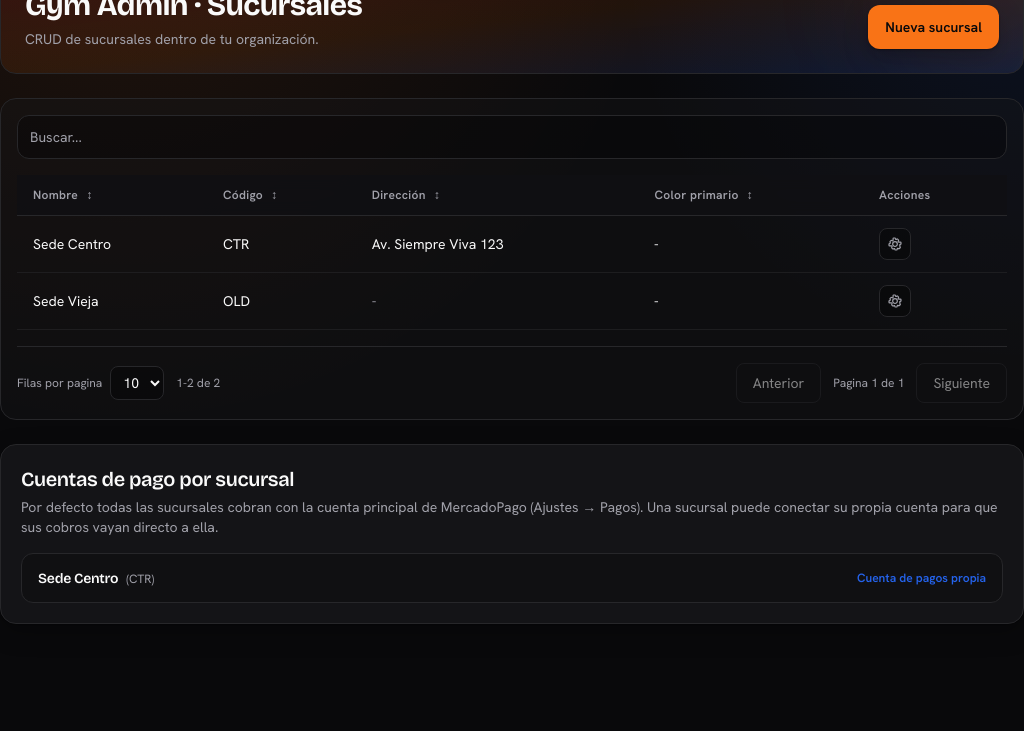
Scenario: GymAdminBranchesPage — cuentas de pago por sucursal › cuenta conectada: muestra la cuenta cobradora y permite desconectar (con confirmación, pasando branch_id)
This screenshot has width=1024, height=731.
Step 1. Click the button "Sede Centro(CTR) Cuenta de pagos propia" → (78, 578), box [22,554,1002,602]
(page scrolled)
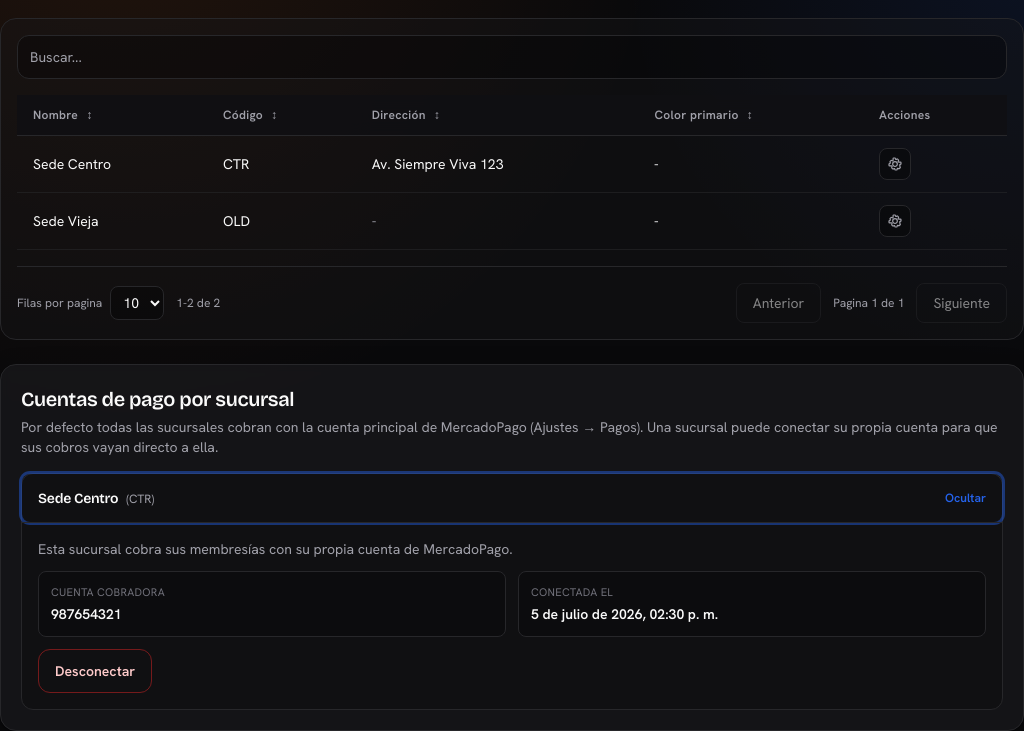
Now the text "987654321" is shown, box [51,605,122,623]
Step 2. Click the button "Desconectar" → (95, 671), box [38,649,152,693]
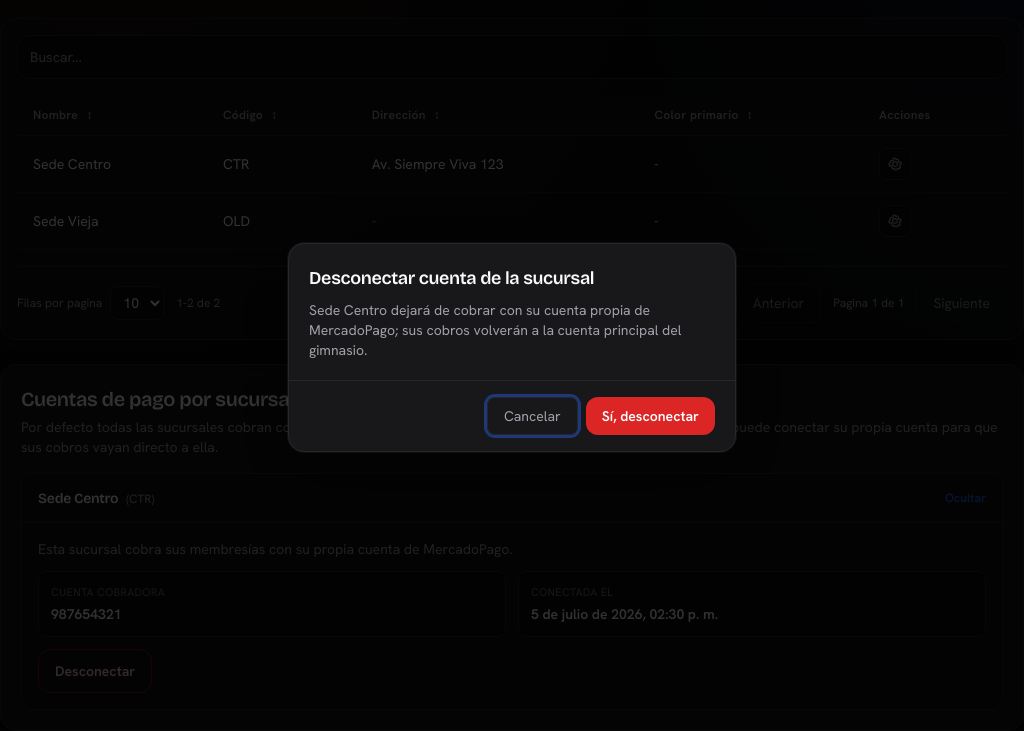
Now the text "dejará de cobrar con su cuenta propia" is shown, box [309,300,682,358]
Step 3. Click the button "Sí, desconectar" → (650, 416), box [586,396,715,434]
(page scrolled)
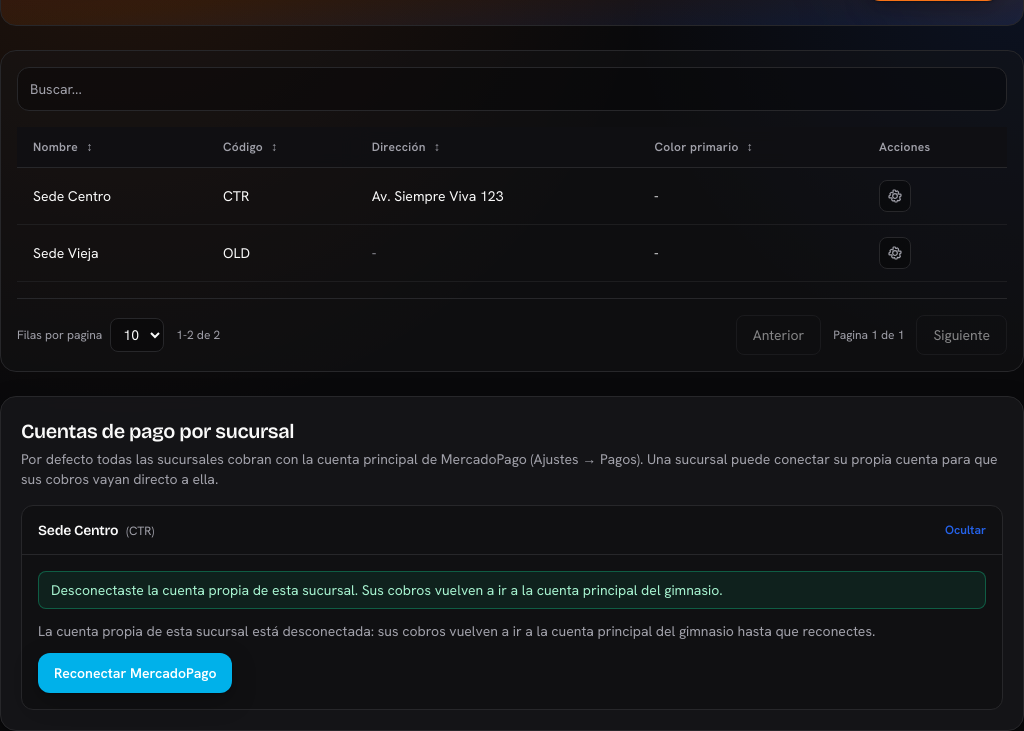
Now the text "La cuenta propia de esta sucursal está desconectada" is shown, box [38,622,875,640]
